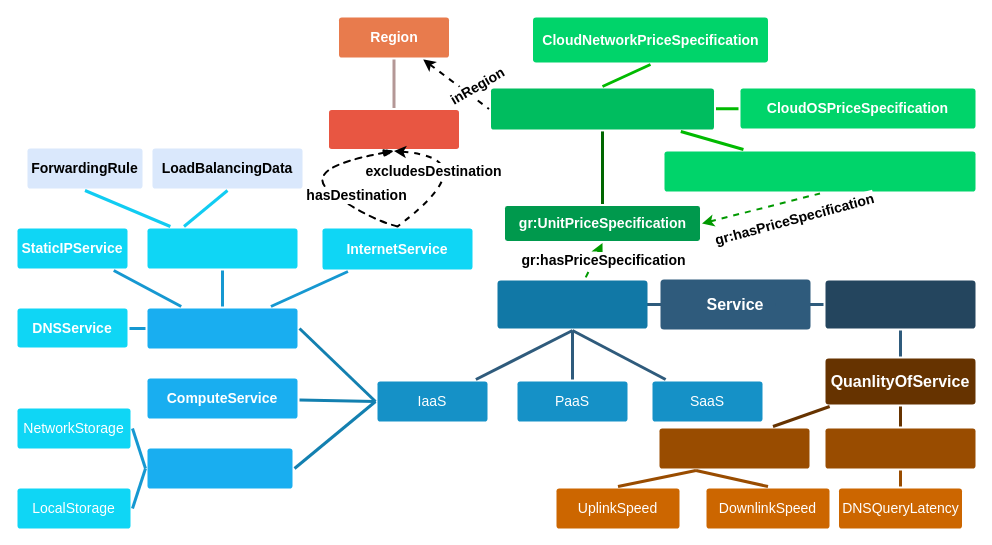
This 992x545 diagram has some shape labels left out. Here are the shapes that lost their labels. From the top down, the centre of each, then its label:
At pixel 602 108: "CloudServicePriceSpecification".
At pixel 393 129: "Location".
At pixel 819 171: "CloudStorageTransactionsPriceSpecification".
At pixel 222 248: "LoadBalancing".
At pixel 572 304: "CloudService".
At pixel 900 304: "owl:Thing".
At pixel 222 328: "NetworkService".
At pixel 219 468: "StorageService".
At pixel 734 448: "DataTransferSpeed".
At pixel 900 448: "Latency".
